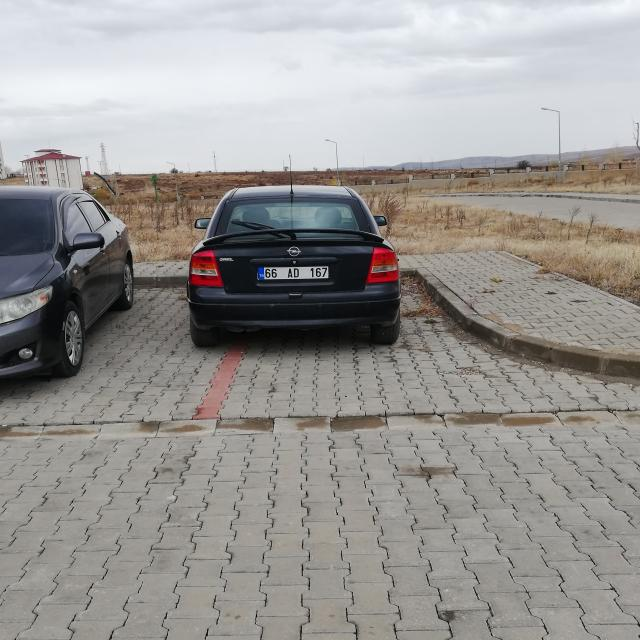license_plate: (258, 266, 329, 278)
